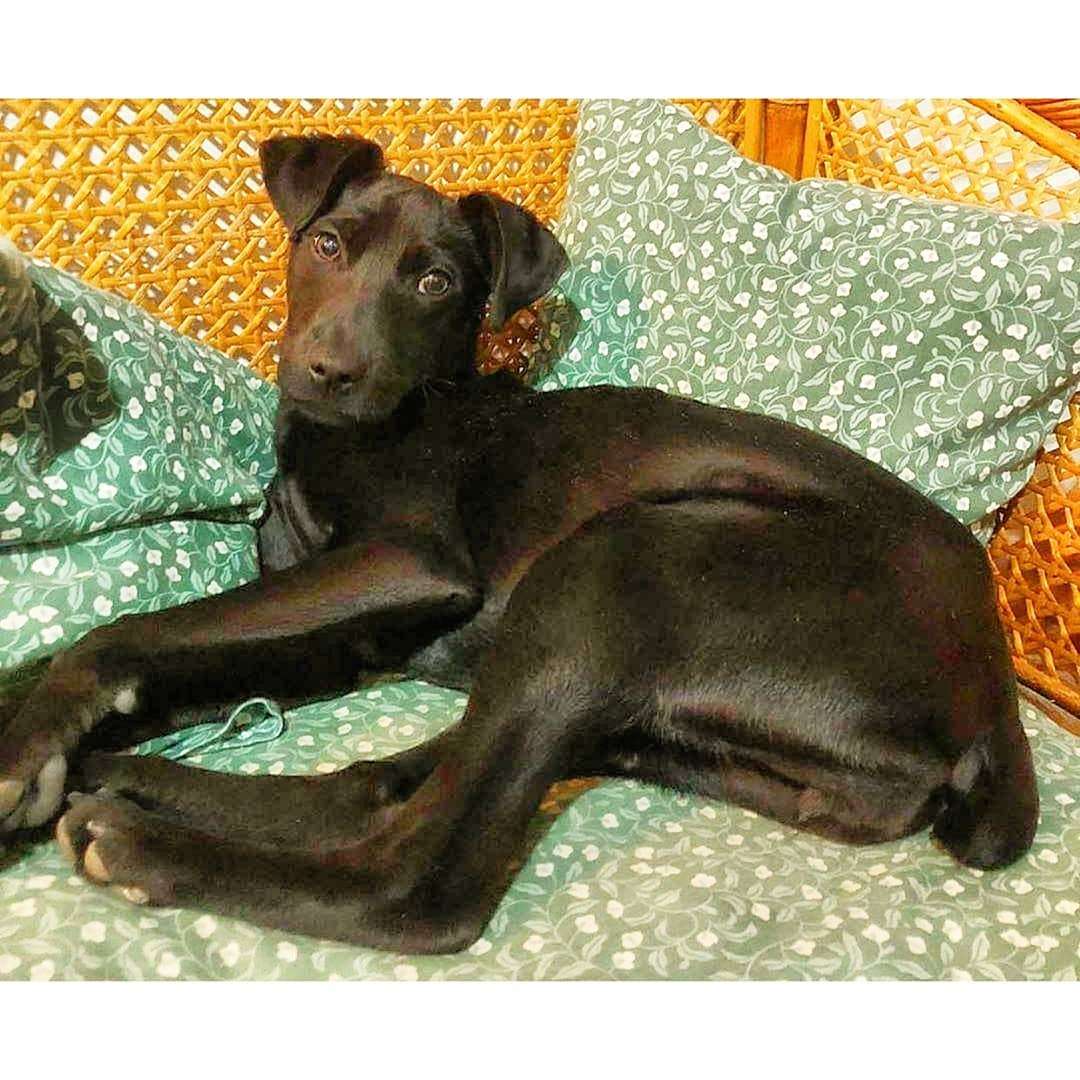dog: (11, 127, 1050, 969)
